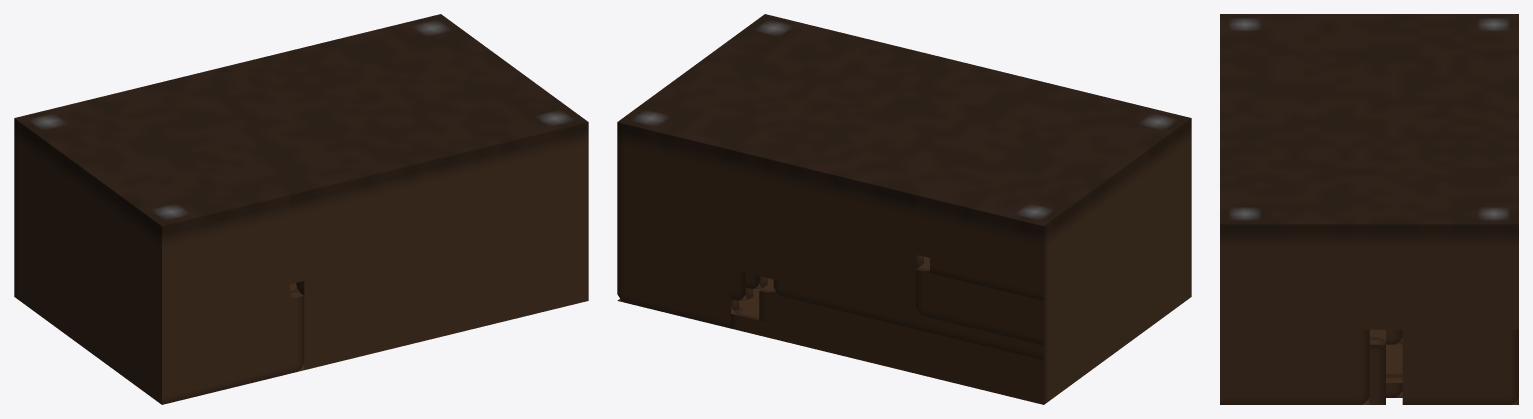
File: szkynka_01.dae
The picture shows the model from 3 angles, left to right: view 1: azimuth 30°, elevation 25°; view 2: azimuth 150°, elevation 25°; view 3: azimuth 270°, elevation 25°; orthographic projection.
Visible parts, largest first — view 1: Content; view 2: Content; view 3: Content.
Part boxes in pixels (x1,y1,x2,y2): Content: (14,14,588,404); Content: (617,14,1191,404); Content: (1220,14,1518,404).
Size of the model in its own units: 30 by 12 by 18.
Materials: 1 (1 with a texture image).
